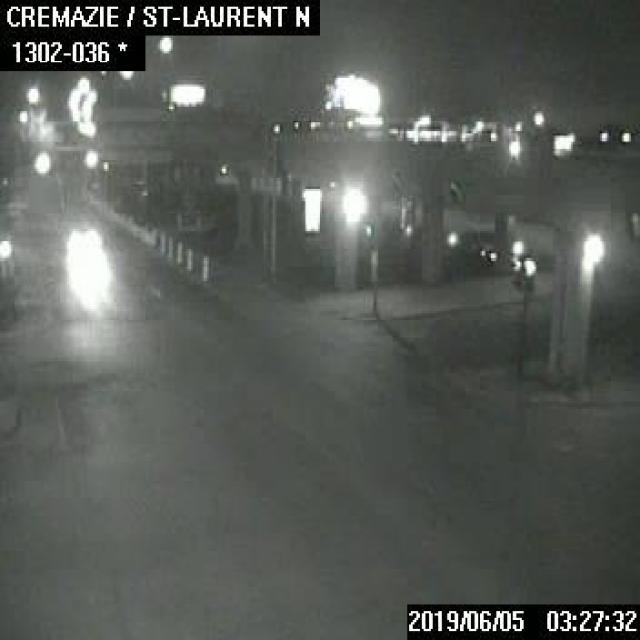construction: (200, 252, 209, 282), (184, 244, 193, 269), (173, 239, 182, 264), (158, 226, 167, 251), (166, 234, 174, 259)
